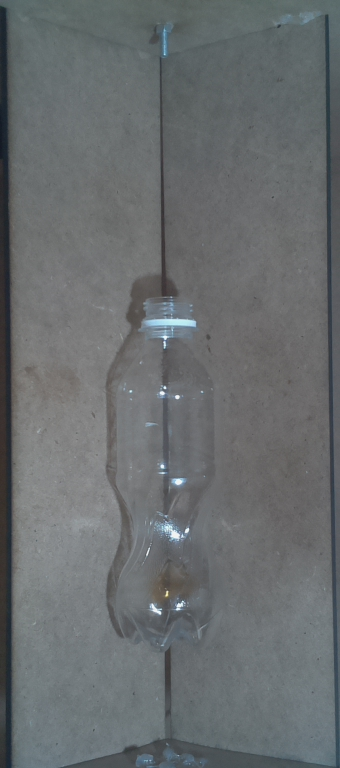Bouteille_0.3L: (103, 289, 230, 661)
